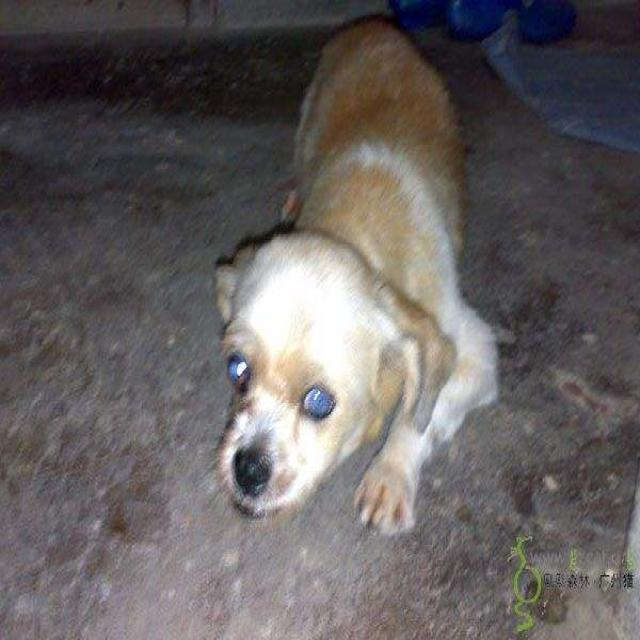eye: (299, 381, 337, 423), (226, 349, 253, 395)
